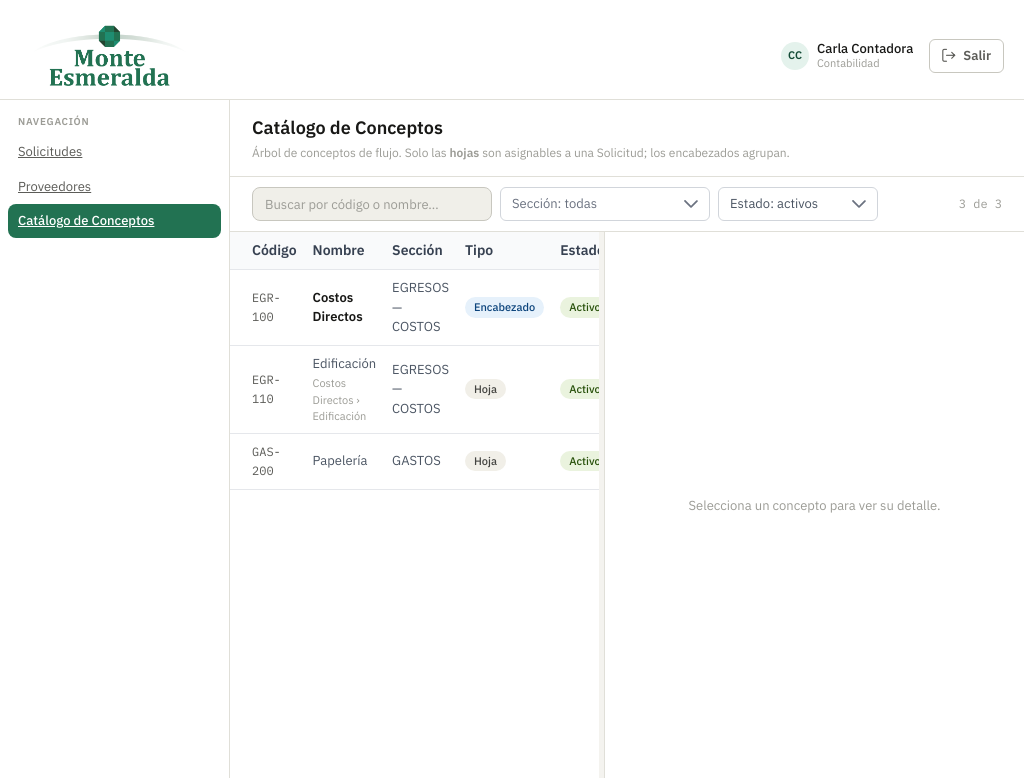
Test: sin concept:edit no aparecen 'Nuevo concepto' ni 'Editar'
Expected: the text "EGR-100" is shown, [252,290,281,324]
What coordinates should you click on to do the following:
click the text "Edificación"
I would click on:
 (344, 363)
Its box is [313,354,376,373].
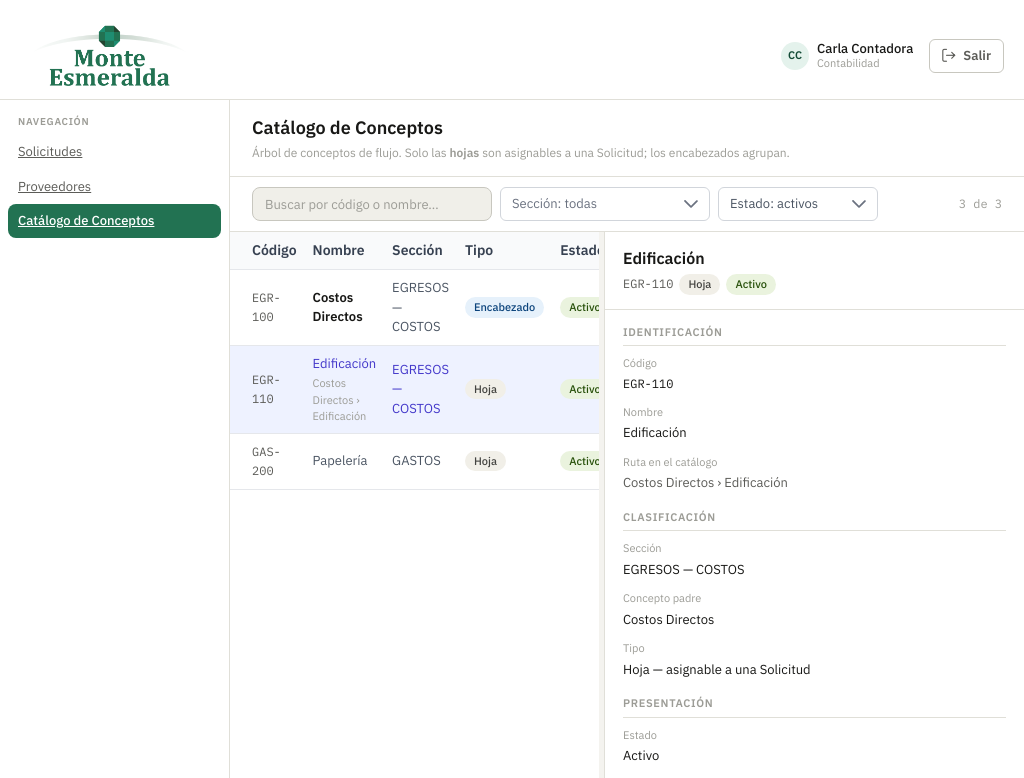
Now the text "Ruta en el catálogo" is shown, box [623,454,717,468]
